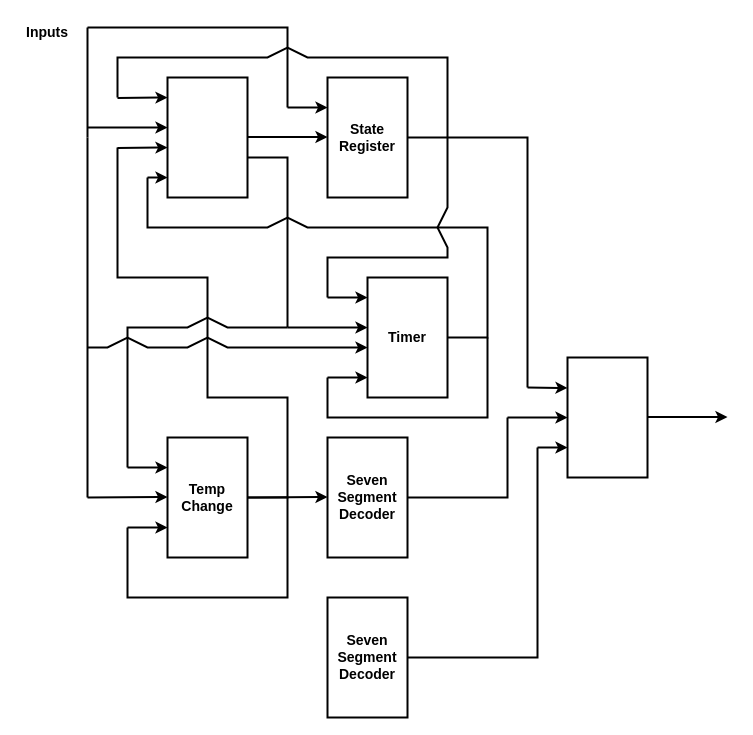
Image size: 753x735. Some labels were removed from this diagram. The centre of each missing label's shape, as x and y in pixels:
"Next-State Logic" goes at [207,137].
"Output Logic" goes at [607,417].
